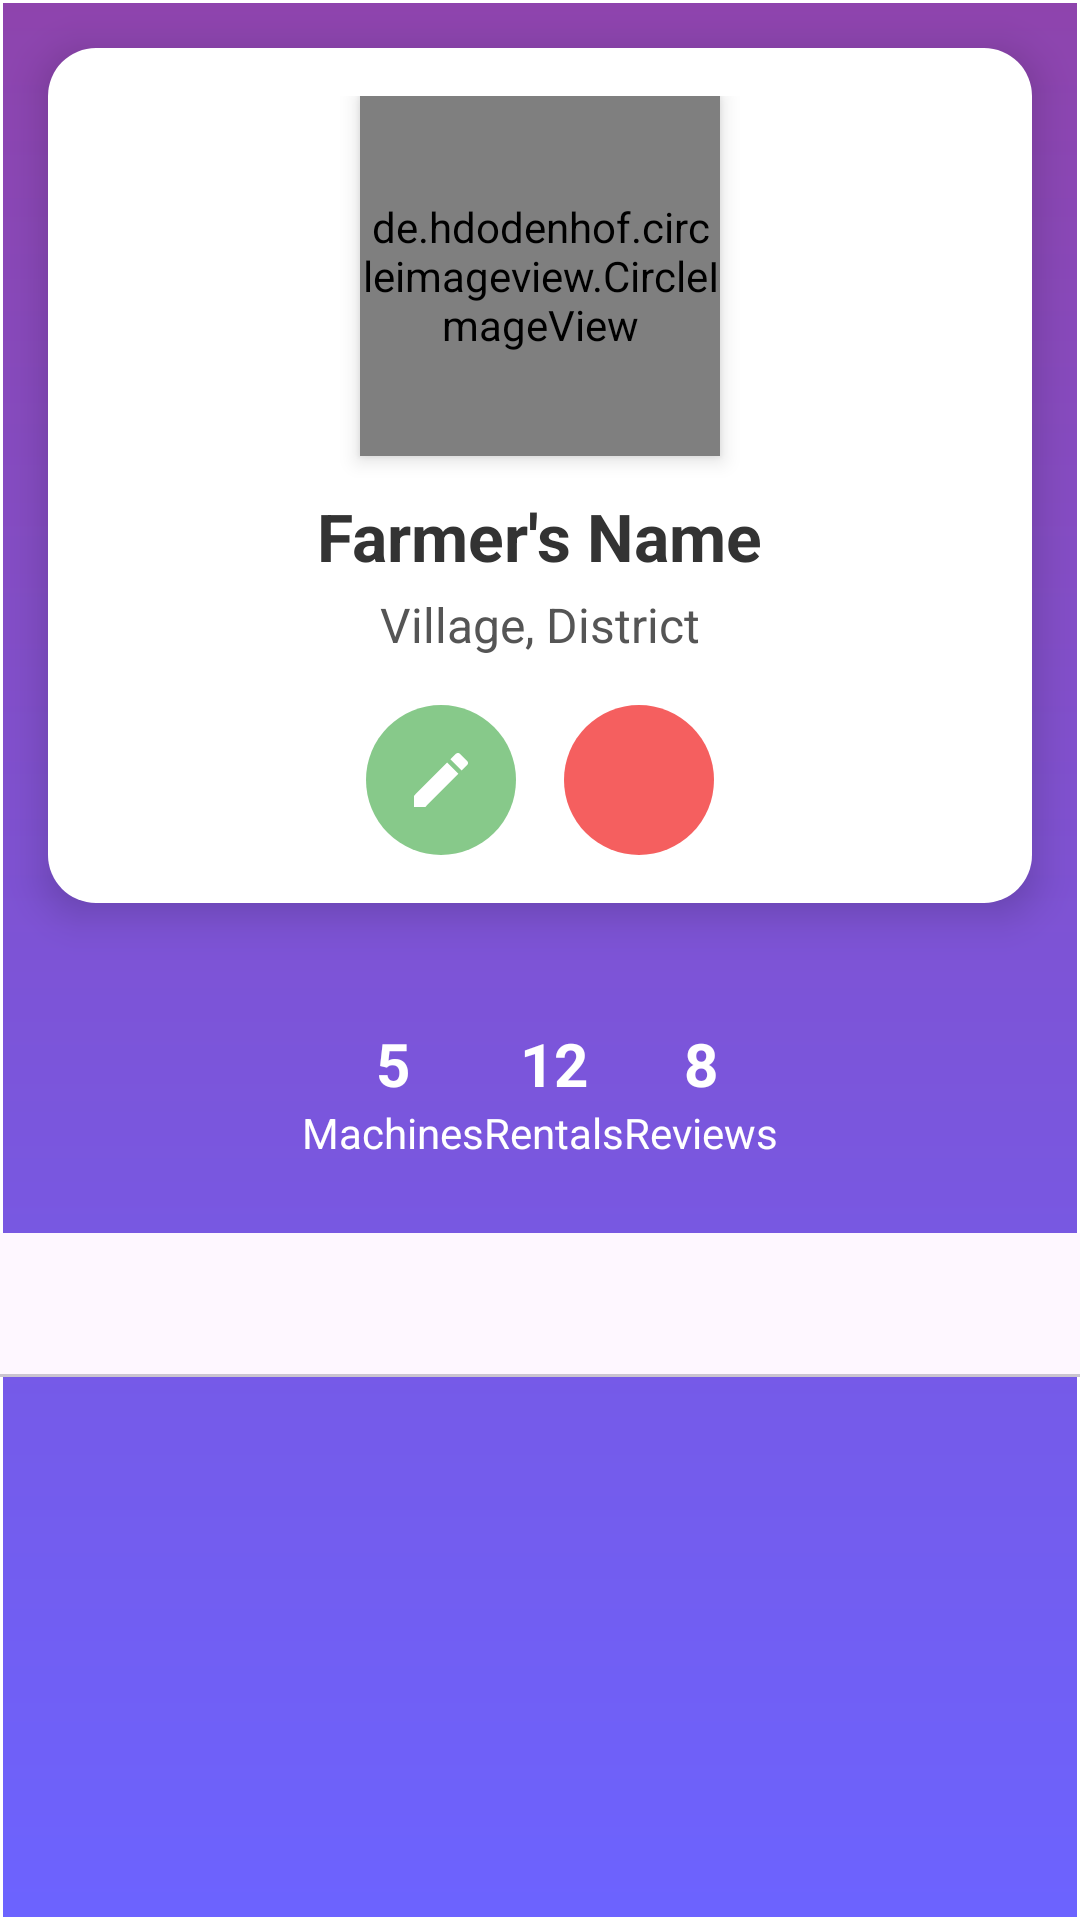

Named icons in this screenshot (1080px×1920px) and their bounding boxes, (left=x1, top=y1, right=x2, bottom=y2):
edit: (left=366, top=705, right=516, bottom=855)
